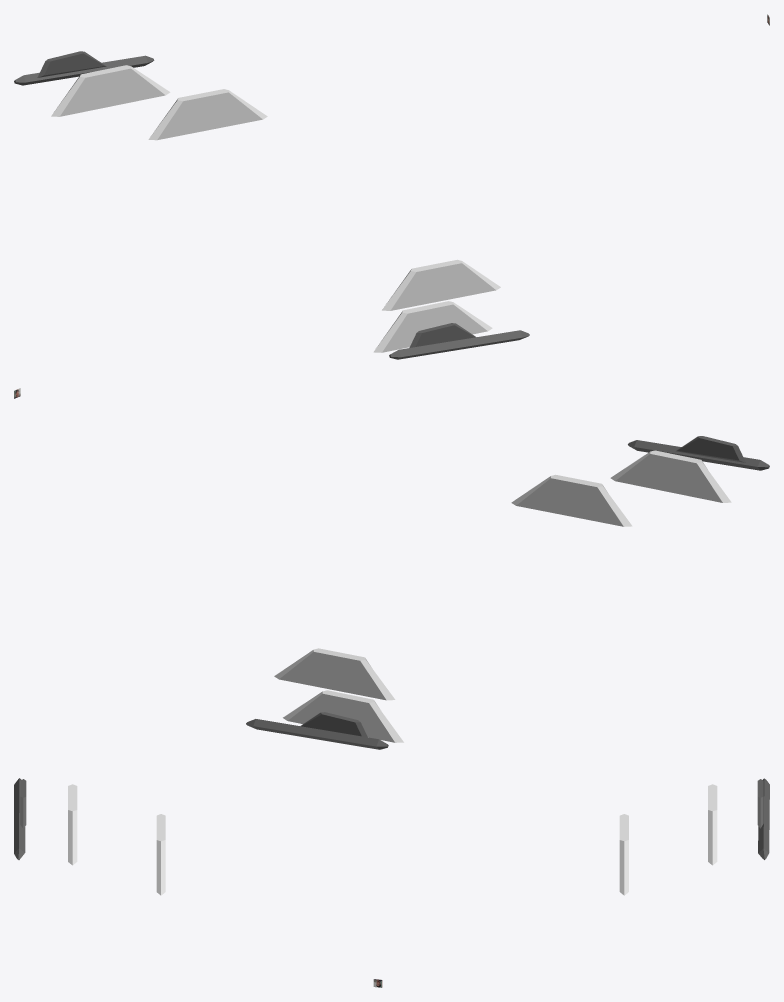
3 views of the same model, one above another, from view 1: azimuth 30°, elevation 25°; view 2: azimuth 150°, elevation 25°; view 3: azimuth 270°, elevation 25° (orthographic). The views are drawn at different scales.
Visible parts, largest first — view 1: 立方体.002, 立方体, 立方体.003, 立方体.001, 立方体.004, 立方体.005; view 2: 立方体.001, 立方体, 立方体.003, 立方体.002, 立方体.005, 立方体.004; view 3: 立方体.004, 立方体.005, 立方体, 立方体.003, 立方体.001, 立方体.002.
Boxes of the visible parts, box(x1,y1,x2,y2) form: 立方体.002: box(51, 65, 170, 116); 立方体: box(382, 259, 500, 310); 立方体.003: box(148, 89, 267, 140); 立方体.001: box(373, 301, 492, 352); 立方体.004: box(389, 323, 529, 359); 立方体.005: box(14, 51, 154, 85); 立方体.001: box(610, 450, 731, 502); 立方体: box(511, 474, 632, 526); 立方体.003: box(274, 648, 395, 700); 立方体.002: box(283, 690, 403, 742); 立方体.005: box(246, 712, 388, 749); 立方体.004: box(628, 436, 769, 470); 立方体.004: box(14, 778, 26, 859); 立方体.005: box(757, 778, 769, 859); 立方体: box(156, 814, 165, 895); 立方体.003: box(619, 814, 628, 895); 立方体.001: box(68, 784, 77, 865); 立方体.002: box(708, 784, 717, 865).
Size of the model in its own units: 10.18 by 1.73 by 11.98.
7 materials, 1 textured.
